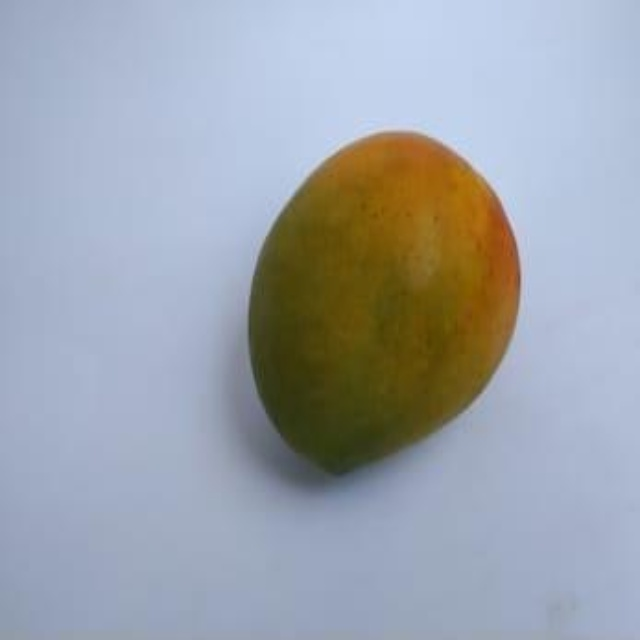mango: (245, 129, 521, 476)
